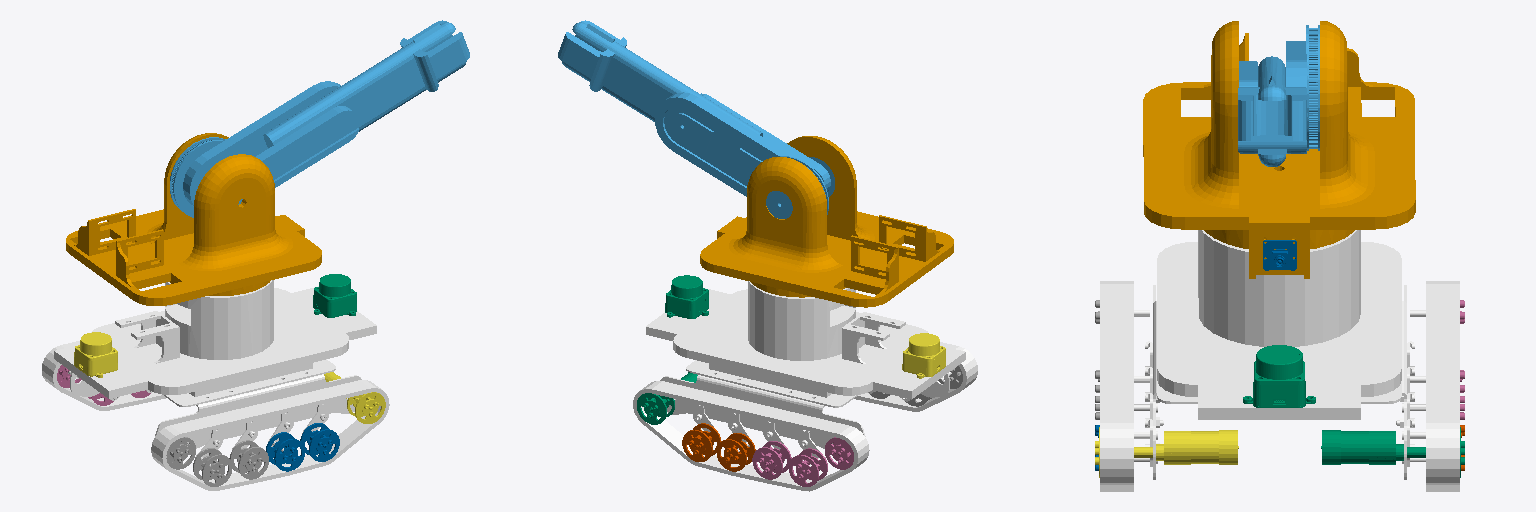
URDF robot description (assem3):
<?xml version="1.0"?>
<robot name="assem3">

  <link name="base_footprint"/>
  <joint name="base_footprint_joint" type="fixed">
    <parent link="base_footprint"/>
    <child link="base_link"/>
    <origin xyz="-0.78773 -1.1702 -1.22185" rpy="-1.5708 0 0"/>
  </joint>

  <link name="base_link">
    <inertial>
      <origin xyz="0.67067 -1.3074 1.2216" rpy="0 0 0" />
      <mass value="5.2" />
      <inertia ixx="0.0049485" ixy="0.0" ixz="0.0" iyy="0.013487" iyz="0.0" izz="0.011268" />
    </inertial>
    <visual>
      <geometry><mesh filename="package://assem3/meshes/base_link.STL" /></geometry>
      <material name=""><color rgba="1 1 1 1" /></material>
    </visual>
    <collision>
      <origin xyz="0.67 -1.30 1.25" rpy="0 0 0" />
      <geometry><box size="0.2 0.2 0.1"/></geometry>
    </collision>
  </link>
  <gazebo reference="base_link"><material>Gazebo/Orange</material></gazebo>

  <link name="banhtrai_link">
    <inertial>
      <mass value="2.5" />
      <inertia ixx="0.001" ixy="0" ixz="0" iyy="0.001" iyz="0" izz="0.001" />
    </inertial>
    <visual><geometry><mesh filename="package://assem3/meshes/banhtrai_link.STL" /></geometry></visual>
    <collision><geometry><sphere radius="0.055"/></geometry></collision>
  </link>
  <joint name="banhtrai_joint" type="continuous">
    <origin xyz="0.78773 -1.2452 1.3549" rpy="0 0 -3.1416" />
    <parent link="base_link" /><child link="banhtrai_link" /><axis xyz="0 0 1" />
  </joint>
  <gazebo reference="banhtrai_link">
    <material>Gazebo/Black</material>
    <mu1>200.0</mu1><mu2>200.0</mu2> </gazebo>

  <link name="banhphai_link">
    <inertial>
      <mass value="2.5" />
      <inertia ixx="0.001" ixy="0" ixz="0" iyy="0.001" iyz="0" izz="0.001" />
    </inertial>
    <visual><geometry><mesh filename="package://assem3/meshes/banhphai_link.STL" /></geometry></visual>
    <collision><geometry><sphere radius="0.055"/></geometry></collision>
  </link>
  <joint name="banhphai_joint" type="continuous">
    <origin xyz="0.78773 -1.2452 1.0888" rpy="-3.1416 0 0" />
    <parent link="base_link" /><child link="banhphai_link" /><axis xyz="0 0 -1" />
  </joint>
  <gazebo reference="banhphai_link">
    <material>Gazebo/Black</material>
    <mu1>200.0</mu1><mu2>200.0</mu2>
  </gazebo>

  <link name="phaitren">
    <inertial><mass value="0.05"/><inertia ixx="0.0001" ixy="0" ixz="0" iyy="0.0001" iyz="0" izz="0.0001"/></inertial>
    <visual><geometry><mesh filename="package://assem3/meshes/phaitren.STL"/></geometry></visual>
    <collision><geometry><mesh filename="package://assem3/meshes/phaitren.STL"/></geometry></collision>
  </link>
  <joint name="phaitren_link" type="fixed"><parent link="base_link"/><child link="phaitren"/></joint>
  <gazebo reference="phaitren"><material>Gazebo/DarkGrey</material><mu1>0.0</mu1><mu2>0.0</mu2></gazebo>

  <link name="traitren">
    <inertial><mass value="0.05"/><inertia ixx="0.0001" ixy="0" ixz="0" iyy="0.0001" iyz="0" izz="0.0001"/></inertial>
    <visual><geometry><mesh filename="package://assem3/meshes/traitren.STL"/></geometry></visual>
    <collision><geometry><mesh filename="package://assem3/meshes/traitren.STL"/></geometry></collision>
  </link>
  <joint name="traitren_link" type="fixed"><parent link="base_link"/><child link="traitren"/></joint>
  <gazebo reference="traitren"><material>Gazebo/DarkGrey</material><mu1>0.0</mu1><mu2>0.0</mu2></gazebo>

  <link name="traiduoi">
    <inertial><mass value="0.05"/><inertia ixx="0.0001" ixy="0" ixz="0" iyy="0.0001" iyz="0" izz="0.0001"/></inertial>
    <visual><geometry><mesh filename="package://assem3/meshes/traiduoi.STL"/></geometry></visual>
    <collision><geometry><mesh filename="package://assem3/meshes/traiduoi.STL"/></geometry></collision>
  </link>
  <joint name="traiduoi_link" type="fixed"><parent link="base_link"/><child link="traiduoi"/></joint>
  <gazebo reference="traiduoi"><material>Gazebo/DarkGrey</material><mu1>0.0</mu1><mu2>0.0</mu2></gazebo>

  <link name="phaiduoi">
    <inertial><mass value="0.05"/><inertia ixx="0.0001" ixy="0" ixz="0" iyy="0.0001" iyz="0" izz="0.0001"/></inertial>
    <visual><geometry><mesh filename="package://assem3/meshes/phaiduoi.STL"/></geometry></visual>
    <collision><geometry><mesh filename="package://assem3/meshes/phaiduoi.STL"/></geometry></collision>
  </link>
  <joint name="phaiduoi_link" type="fixed"><parent link="base_link"/><child link="phaiduoi"/></joint>
  <gazebo reference="phaiduoi"><material>Gazebo/DarkGrey</material><mu1>0.0</mu1><mu2>0.0</mu2></gazebo>

  <link name="dexoay">
    <inertial><mass value="1.637" /><inertia ixx="0.005" ixy="0.0" ixz="0.0" iyy="0.006" iyz="0.0" izz="0.007" /></inertial>
    <visual><geometry><mesh filename="package://assem3/meshes/dexoay.STL" /></geometry></visual>
  </link>
  <joint name="dexoay_joint" type="revolute">
    <origin xyz="0.67273 -1.3541 1.2215" rpy="1.5708 0 0" />
    <parent link="base_link" /><child link="dexoay" />
    <axis xyz="0 0 1" />
    <limit lower="-3.14" upper="3.14" effort="100.0" velocity="10.0" />
    <dynamics damping="0.1" friction="0.1"/>
  </joint>
  <gazebo reference="dexoay"><material>Gazebo/White</material></gazebo>

  <link name="khau1">
    <inertial><mass value="0.904" /><inertia ixx="0.003" ixy="0.0" ixz="0.0" iyy="0.003" iyz="0.0" izz="0.004" /></inertial>
    <visual><geometry><mesh filename="package://assem3/meshes/khau1.STL" /></geometry></visual>
  </link>
  <joint name="khau1_joint" type="revolute">
    <origin xyz="0 -0.0053 0.133" rpy="1.5691 1.5708 0" />
    <parent link="dexoay" /><child link="khau1" />
    <axis xyz="0 0 1" />
    <limit lower="-1.57" upper="1.57" effort="100.0" velocity="10.0" />
    <dynamics damping="0.1" friction="0.1"/>
  </joint>
  <gazebo reference="khau1"><material>Gazebo/White</material></gazebo>

  <link name="lidar1">
    <inertial><mass value="0.1" /><inertia ixx="0.0001" ixy="0" ixz="0" iyy="0.0001" iyz="0" izz="0.0001" /></inertial>
    <visual><geometry><mesh filename="package://assem3/meshes/lidar1.STL" /></geometry></visual>
  </link>
  <joint name="lidar1_joint" type="fixed"><origin xyz="0.81921 -1.3394 1.2215" rpy="1.5708 0 0" /><parent link="base_link" /><child link="lidar1" /></joint>
  <gazebo reference="lidar1"><material>Gazebo/DarkGrey</material></gazebo>

  <link name="lidar2">
    <inertial><mass value="0.1" /><inertia ixx="0.0001" ixy="0" ixz="0" iyy="0.0001" iyz="0" izz="0.0001" /></inertial>
    <visual><geometry><mesh filename="package://assem3/meshes/lidar2.STL" /></geometry></visual>
  </link>
  <joint name="lidar2_joint" type="fixed"><origin xyz="0.51624 -1.3394 1.2215" rpy="-1.5708 0 -3.1416" /><parent link="base_link" /><child link="lidar2" /></joint>
  <gazebo reference="lidar2"><material>Gazebo/DarkGrey</material></gazebo>

  <link name="camera">
    <inertial><mass value="0.05" /><inertia ixx="0.0001" ixy="0" ixz="0" iyy="0.0001" iyz="0" izz="0.0001" /></inertial>
    <visual><geometry><mesh filename="package://assem3/meshes/camera.STL" /></geometry></visual>
  </link>
  <joint name="camera_joint" type="fixed"><origin xyz="0.1018 0.00017264 0.039288" rpy="-1.5708 0 -1.5691" /><parent link="dexoay" /><child link="camera" /></joint>
  <gazebo reference="camera"><material>Gazebo/Blue</material></gazebo>

  <gazebo>
    <plugin name="gazebo_ros_diff_drive" filename="libgazebo_ros_diff_drive.so">
      <update_rate>50.0</update_rate>
      <left_joint>banhtrai_joint</left_joint>
      <right_joint>banhphai_joint</right_joint>
      <wheel_separation>0.266</wheel_separation>
      <wheel_diameter>0.15</wheel_diameter>
      
      <command_topic>cmd_vel</command_topic>
      
      <publish_odom>true</publish_odom>
      <publish_odom_tf>true</publish_odom_tf>
      <publish_wheel_tf>true</publish_wheel_tf>
      <odometry_frame>odom</odometry_frame>
      <robot_base_frame>base_footprint</robot_base_frame>
    </plugin>
    
    <plugin name="gazebo_ros_joint_state_publisher" filename="libgazebo_ros_joint_state_publisher.so">
      <update_rate>50</update_rate>
      <joint_name>banhtrai_joint</joint_name>
      <joint_name>banhphai_joint</joint_name>
    </plugin>
  </gazebo>
  
<ros2_control name="GazeboSystem" type="system">
    <hardware>
      <plugin>gazebo_ros2_control/GazeboSystem</plugin>
    </hardware>
    <joint name="dexoay_joint">
      <command_interface name="position">
        <param name="min">-3.14</param>
        <param name="max">3.14</param>
      </command_interface>
      <state_interface name="position"/>
      <state_interface name="velocity"/>
    </joint>
    <joint name="khau1_joint">
      <command_interface name="position">
        <param name="min">-1.57</param>
        <param name="max">1.57</param>
      </command_interface>
      <state_interface name="position"/>
      <state_interface name="velocity"/>
    </joint>
  </ros2_control>

  <gazebo>
    <plugin filename="libgazebo_ros2_control.so" name="gazebo_ros2_control">
      <robot_param>robot_description</robot_param>
      <robot_param_node>robot_state_publisher</robot_param_node>
      <parameters>ABSOLUTE_PATH_TO_YAML</parameters>
    </plugin>
  </gazebo>

  <gazebo reference="camera"><material>Gazebo/Blue</material></gazebo>

  <link name="camera_lens"/>
  <joint name="camera_lens_joint" type="fixed">
    <origin xyz="0.1018 0.00017 0.039" rpy="0 0 0" />
    <parent link="dexoay" />
    <child link="camera_lens" />
  </joint>

  <link name="camera_optical"/>
  <joint name="camera_optical_joint" type="fixed">
    <origin xyz="0 0 0" rpy="-1.5708 0 -1.5708" />
    <parent link="camera_lens" />
    <child link="camera_optical" />
  </joint>

  <gazebo reference="camera_lens">
    <sensor type="camera" name="camera_sensor">
      <update_rate>30.0</update_rate>
      <visualize>true</visualize>
      <camera name="head">
        <horizontal_fov>1.396</horizontal_fov>
        <image><width>640</width><height>480</height><format>R8G8B8</format></image>
        <clip><near>0.02</near><far>300</far></clip>
      </camera>
      <plugin name="gazebo_ros_camera" filename="libgazebo_ros_camera.so">
        <camera_name>camera</camera_name>
        <frame_name>camera_optical</frame_name> 
      </plugin>
    </sensor>
  </gazebo>

  <gazebo reference="lidar1">
    <material>Gazebo/DarkGrey</material>
    <sensor type="ray" name="lidar1_sensor">
      <pose>0 0 0 0 0 0</pose>
      <visualize>true</visualize> <update_rate>10</update_rate>
      <ray>
        <scan>
          <horizontal>
            <samples>360</samples>
            <resolution>1</resolution>
            <min_angle>-3.14159</min_angle>
            <max_angle>3.14159</max_angle>
          </horizontal>
        </scan>
        <range><min>0.15</min><max>12.0</max><resolution>0.01</resolution></range>
      </ray>
      <plugin name="gazebo_ros_lidar1" filename="libgazebo_ros_ray_sensor.so">
        <ros><remapping>~/out:=scan_1</remapping></ros>
        <output_type>sensor_msgs/LaserScan</output_type>
        <frame_name>lidar1</frame_name>
      </plugin>
    </sensor>
  </gazebo>

  <gazebo reference="lidar2">
    <material>Gazebo/DarkGrey</material>
    <sensor type="ray" name="lidar2_sensor">
      <pose>0 0 0 0 0 0</pose>
      <visualize>true</visualize>
      <update_rate>10</update_rate>
      <ray>
        <scan>
          <horizontal>
            <samples>360</samples>
            <resolution>1</resolution>
            <min_angle>-3.14159</min_angle>
            <max_angle>3.14159</max_angle>
          </horizontal>
        </scan>
        <range><min>0.15</min><max>12.0</max><resolution>0.01</resolution></range>
      </ray>
      <plugin name="gazebo_ros_lidar2" filename="libgazebo_ros_ray_sensor.so">
        <ros><remapping>~/out:=scan_2</remapping></ros>
        <output_type>sensor_msgs/LaserScan</output_type>
        <frame_name>lidar2</frame_name>
      </plugin>
    </sensor>
  </gazebo>

</robot>

--- Render facts (derived) ---
3 views of the same robot in one strip: view 1: azimuth 30°, elevation 25°; view 2: azimuth 150°, elevation 25°; view 3: azimuth 270°, elevation 25° (orthographic).
Model assem3 with 15 links and 14 joints (2 revolute, 2 continuous, 10 fixed), rooted at base_footprint, posed every joint at zero.
Visible links, largest first — view 1: base_link, dexoay, khau1, phaiduoi, phaitren, lidar1, lidar2, banhphai_link; view 2: base_link, dexoay, khau1, traiduoi, traitren, lidar1, lidar2, banhtrai_link; view 3: base_link, dexoay, khau1, lidar1, banhtrai_link, banhphai_link, camera.
Link boxes in pixels (x1,y1,x2,y2): base_link: (42,280,389,490); dexoay: (66,133,321,305); khau1: (170,20,469,217); phaiduoi: (166,437,268,486); phaitren: (266,423,339,471); lidar1: (313,274,356,317); lidar2: (74,332,117,377); banhphai_link: (324,372,385,423); base_link: (633,281,977,491); dexoay: (700,136,953,307); khau1: (558,20,834,218); traiduoi: (752,437,853,486); traitren: (682,423,755,471); lidar1: (665,275,708,318); lidar2: (902,333,945,378); banhtrai_link: (637,372,697,424); base_link: (1100,230,1459,491); dexoay: (1143,21,1415,278); khau1: (1238,25,1319,166); lidar1: (1243,345,1315,407); banhtrai_link: (1321,427,1464,477); banhphai_link: (1095,427,1238,477); camera: (1263,240,1296,270).
Size in the robot's own frame: 0.4842 by 0.2721 by 0.4347 metres.
12 mesh visuals loaded from 12 distinct referenced files (12 binary STL).
